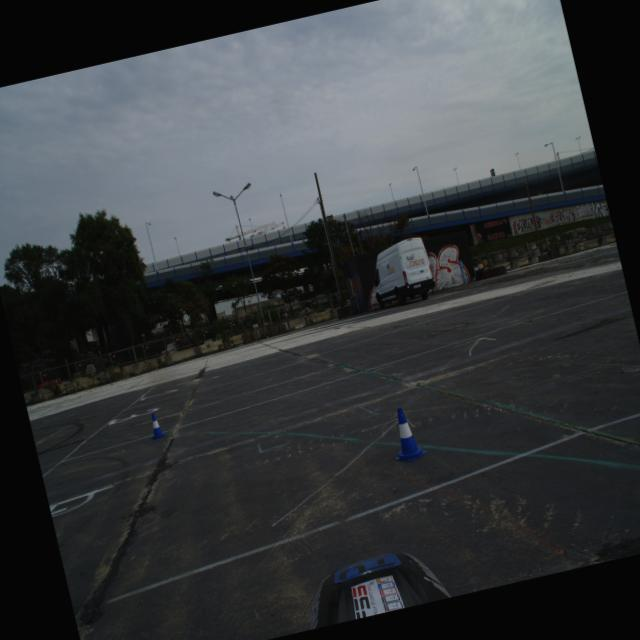blue_cone: (384, 403, 428, 465), (146, 411, 166, 440)
